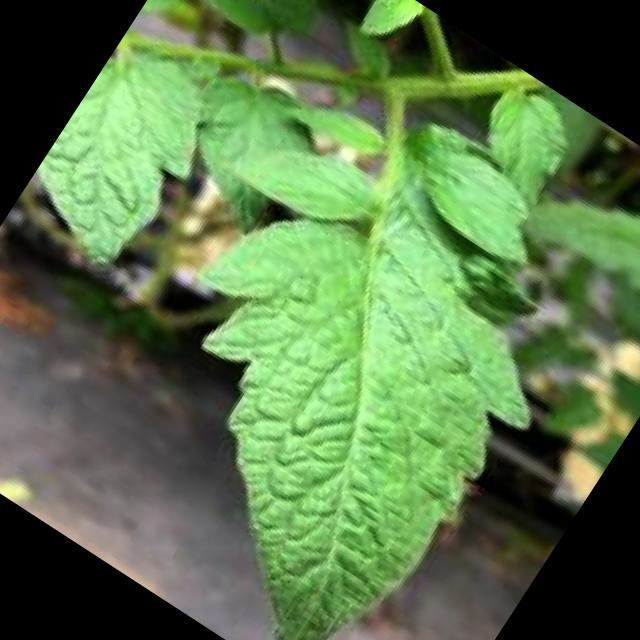Tomato healthy leaf: (197, 125, 532, 640), (34, 33, 200, 267)
